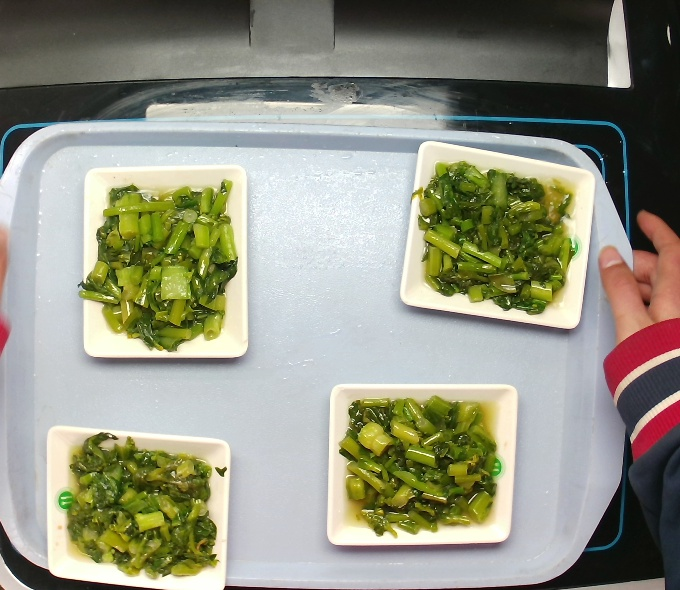wcq-YouCaiHua: (399, 158, 584, 311), (83, 177, 237, 347), (338, 391, 502, 536), (51, 436, 218, 574)
